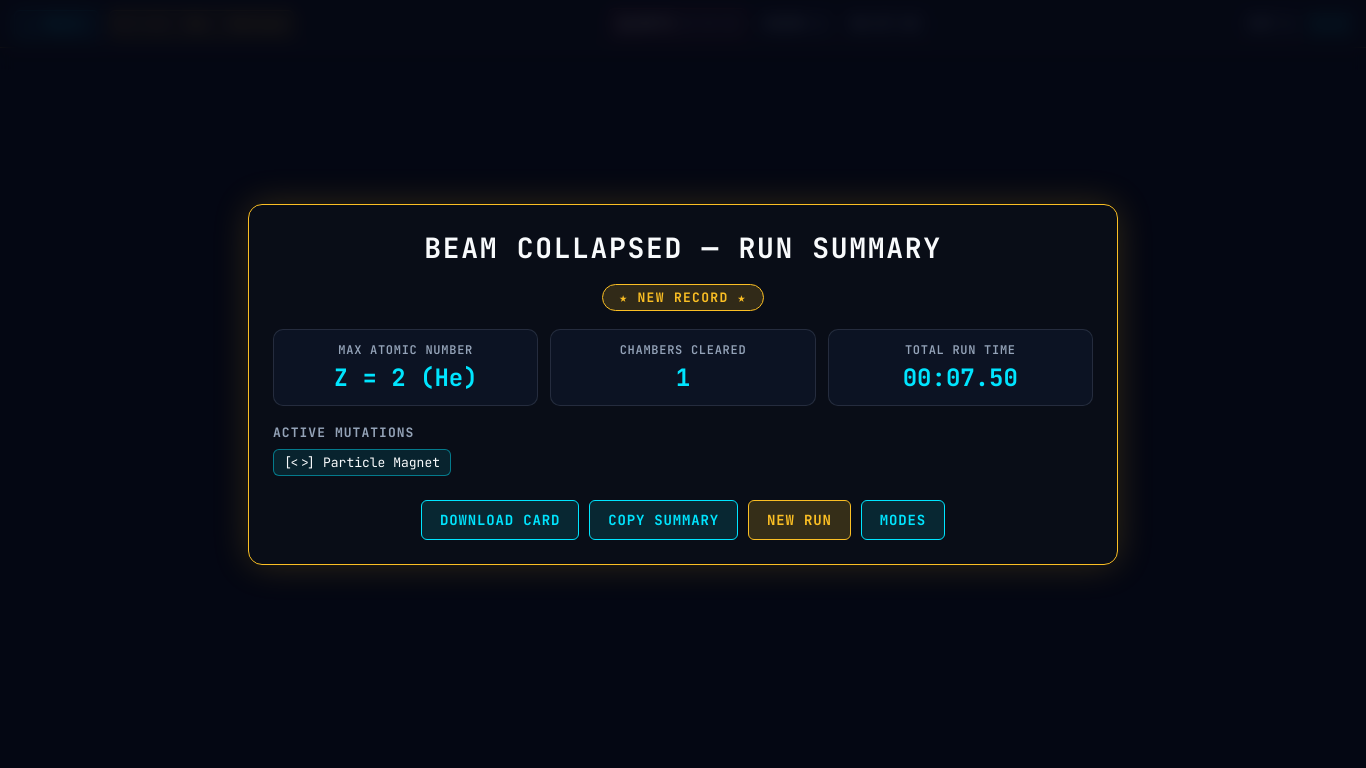
Test case: AcceleratorMode UI (Spec-03) › transitions to shareable Game Over summary after losing all 3 lives and supports Copy Summary & New Run
Earlier steps of the test are not shown.
Expected: the text with test id "summary-max-z" shows "Z = 2", top-left (334, 362), bottom-right (478, 392)
Expected: the text with test id "summary-rooms" reads "1", top-left (676, 362), bottom-right (690, 392)
Click the button with test id "accelerator-copy-summary" at (664, 520), box top-left (589, 500), bottom-right (738, 540)
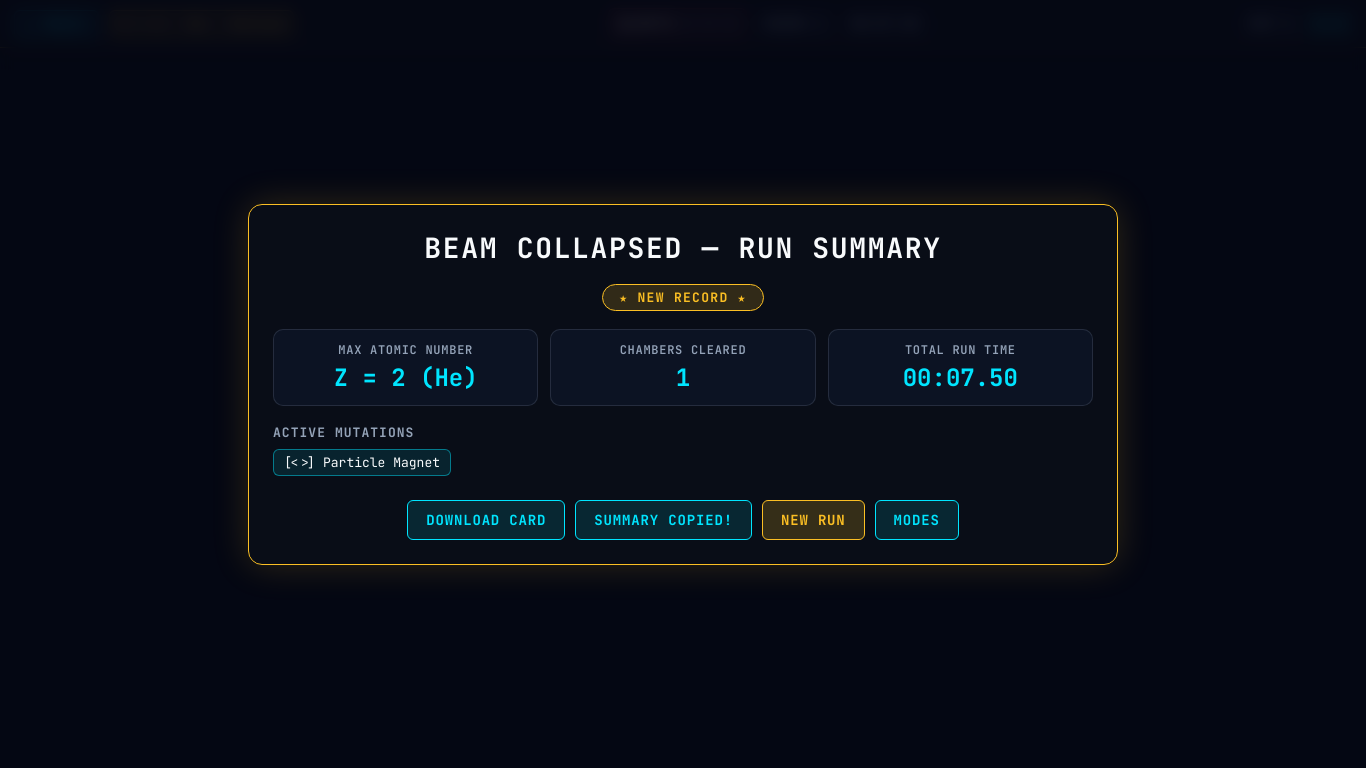
Click the button with test id "accelerator-new-run" at (813, 520), box top-left (762, 500), bottom-right (865, 540)
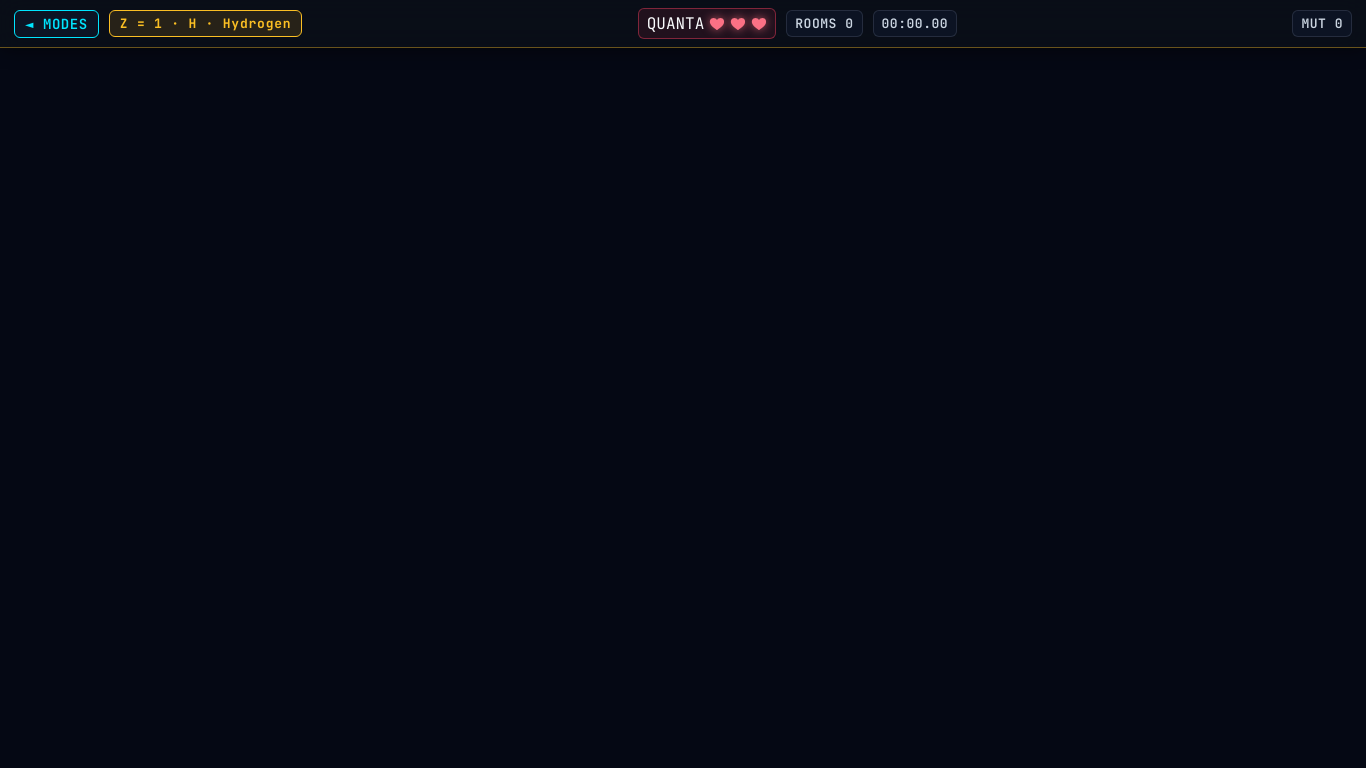
Expected: the element with test id "accelerator-gameover-overlay" is gone
Expected: the text with test id "accelerator-z-badge" shows "Z = 1", top-left (109, 10), bottom-right (302, 37)
